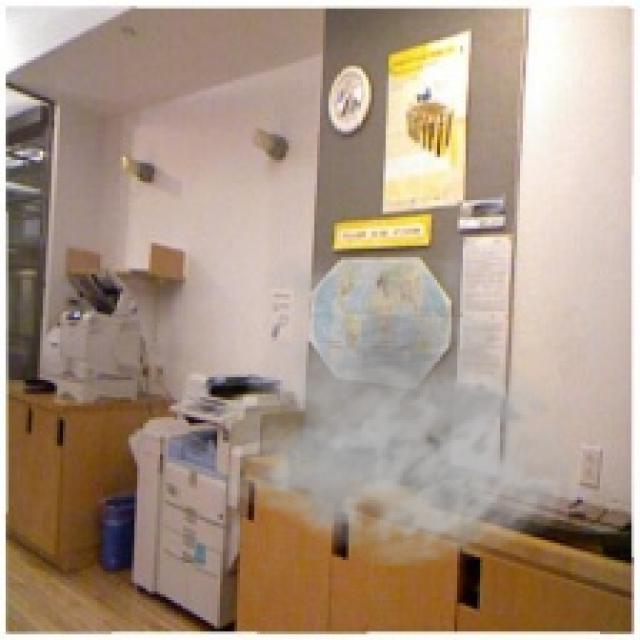smoke: (206, 223, 591, 568)
